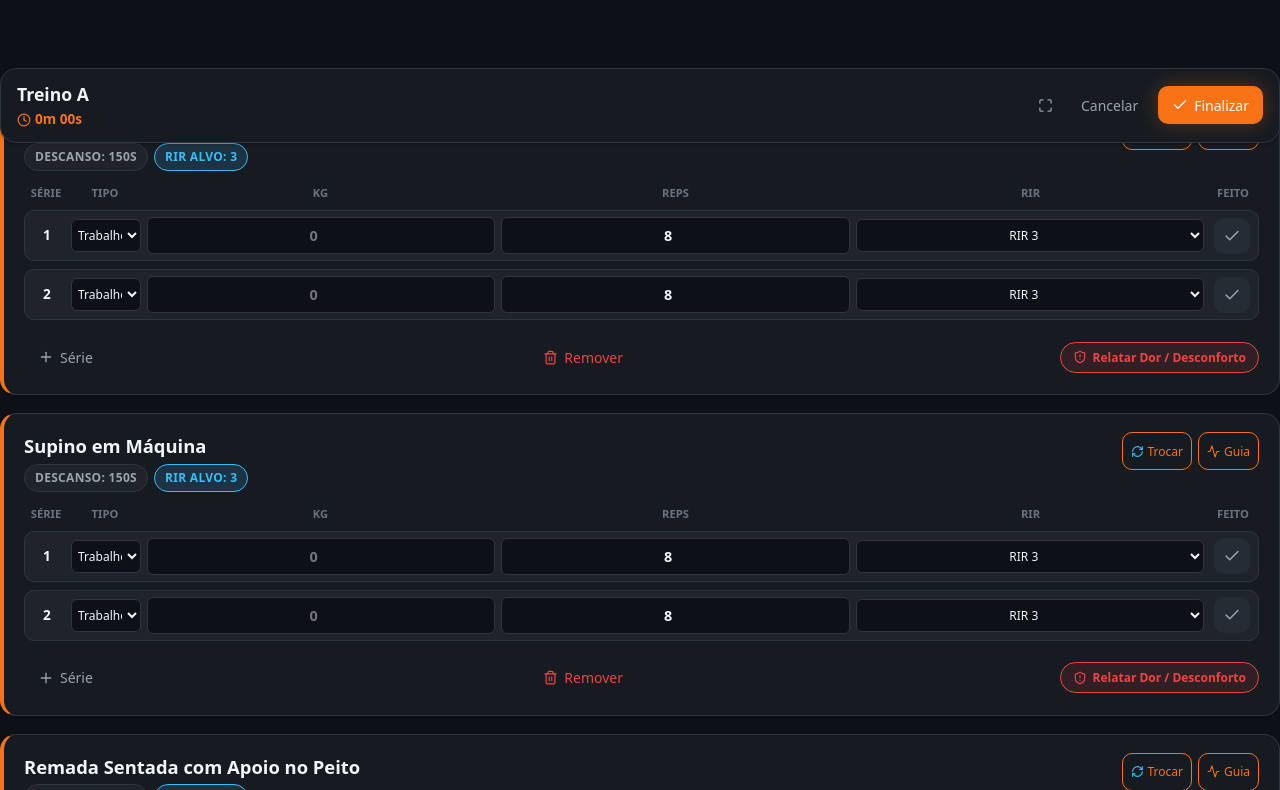
Test case: ActiveWorkoutScreen Component › renderiza o treino ativo e permite preencher carga e concluir uma série
The image size is (1280, 790).
Check: the heading "Treino A" is shown, box [17, 81, 89, 107]
Check: the heading "Leg Press 45°" is shown, box [24, 113, 144, 138]
# Insere peso e repetições na primeira série
Type "60" into the number field named "carga em kg da série 1" at [321, 236], box [147, 217, 495, 254]
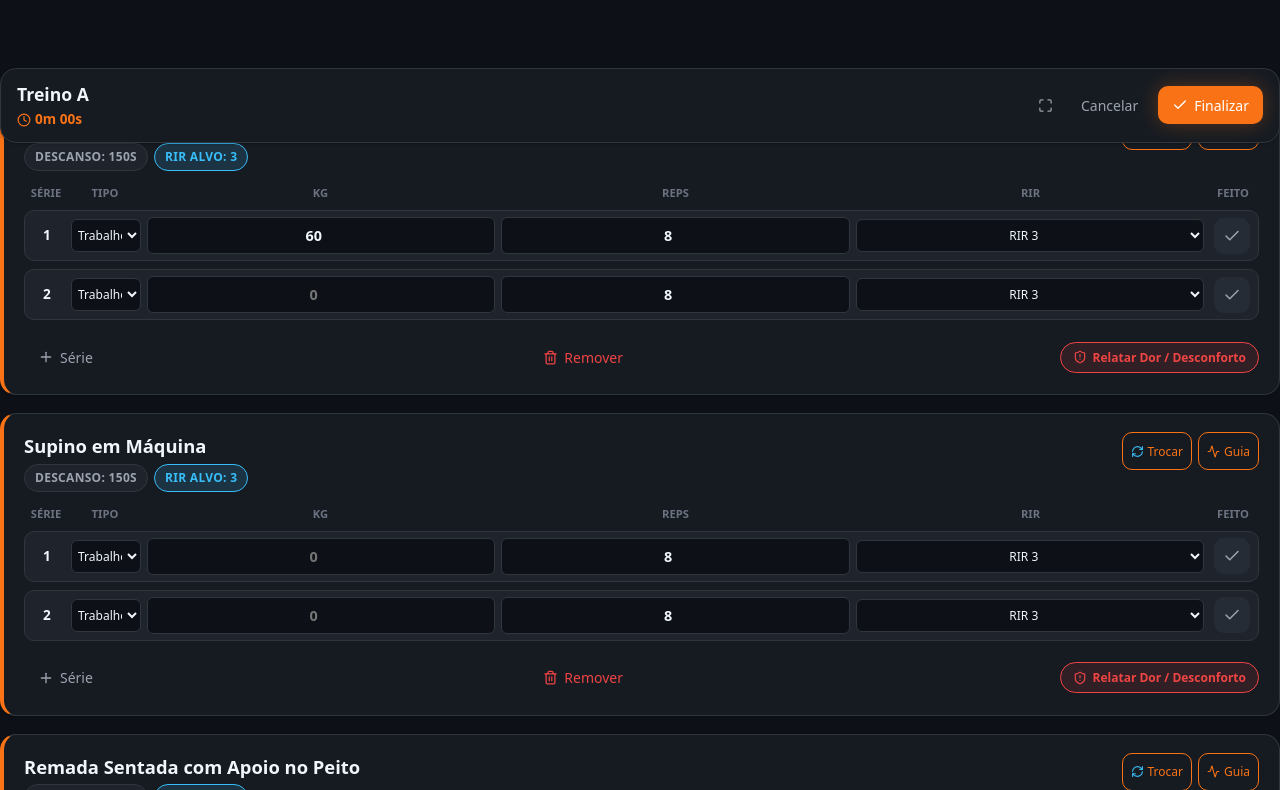
Replace the text in the 1st number field named "repetições da série 1" with "12" at [675, 236], box [501, 217, 850, 254]
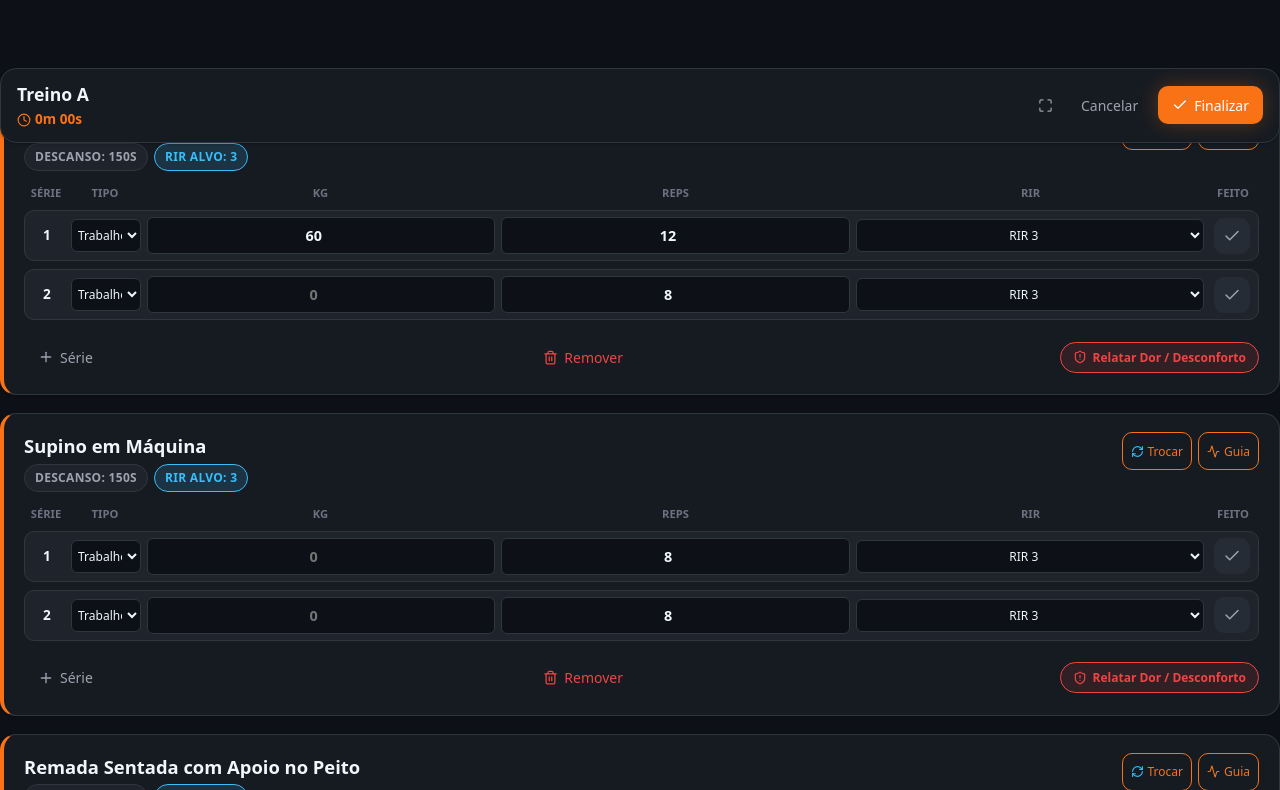
# Conclui a série
Click the 1st button named "concluir série 1" at [1232, 236], box [1214, 218, 1250, 254]
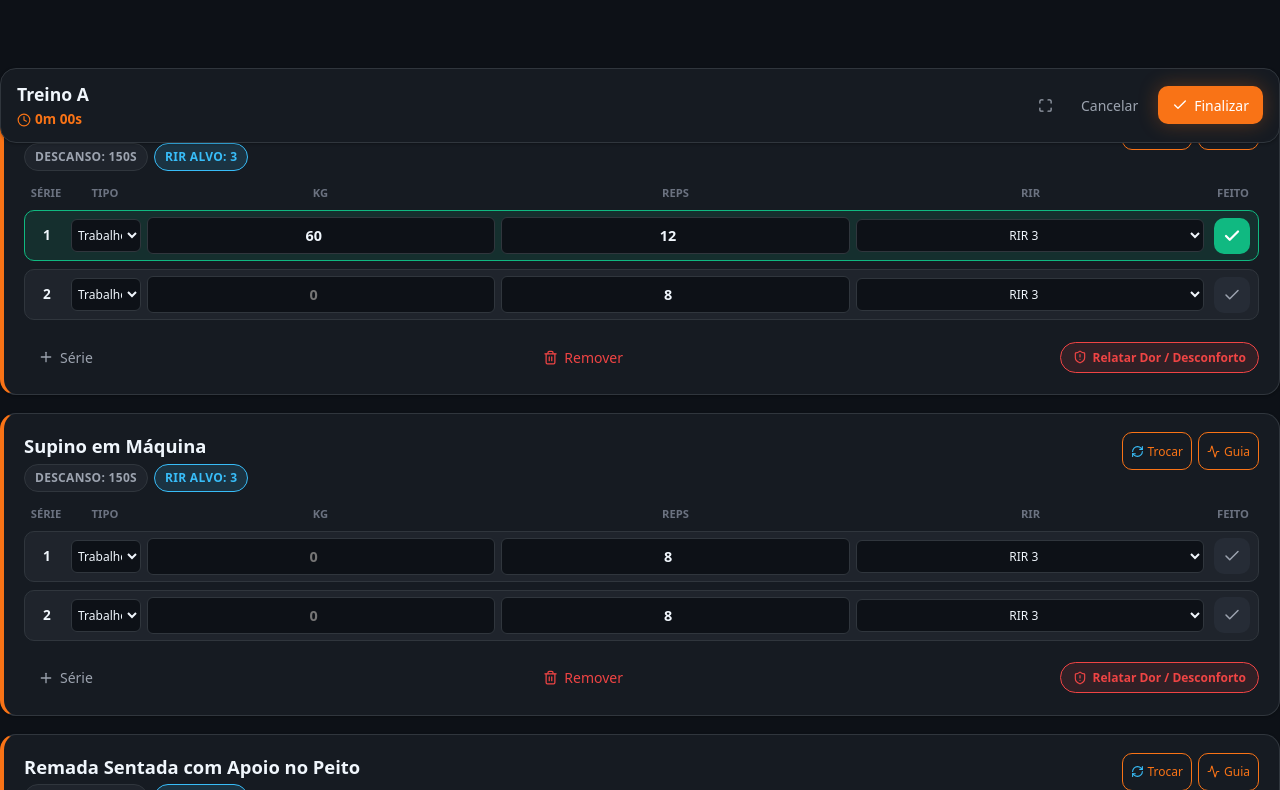
# Verifica botão de finalizar
Click the button with aria-label "finalizar treino" at [1211, 105], box [1158, 86, 1263, 124]
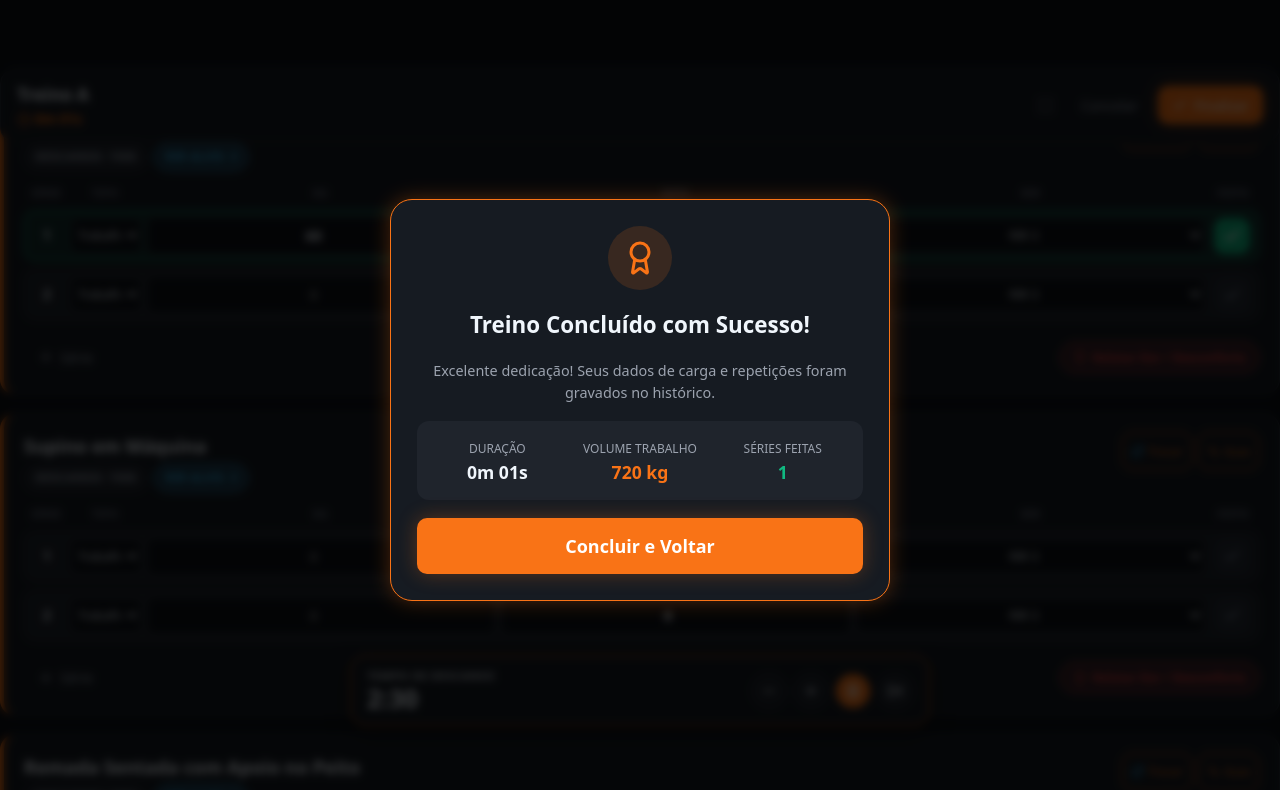
Check: the heading "Treino Concluído com Sucesso!" is shown, box [470, 309, 810, 340]
